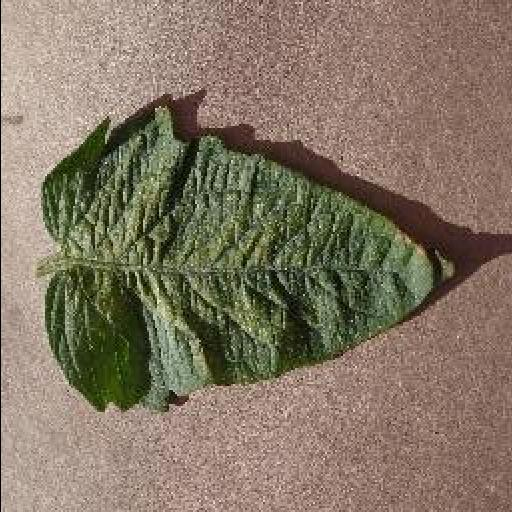disease_tomato: (42, 103, 454, 411)
